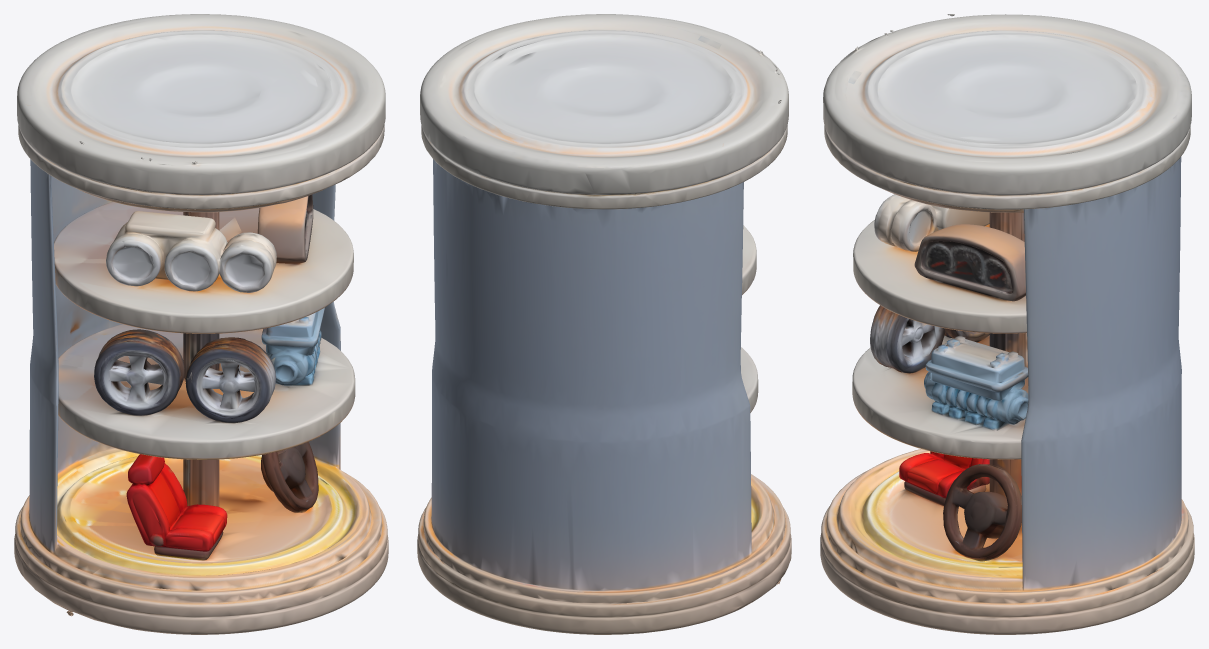
The model's file is 展示柜.fbx.
3 renders of one model, left to right at view 1: azimuth 30°, elevation 25°; view 2: azimuth 150°, elevation 25°; view 3: azimuth 270°, elevation 25°, orthographic.
Visible parts, largest first — view 1: node_0; view 2: node_0; view 3: node_0.
Part boxes in pixels (left/top/right/bottom): node_0: left=14, top=14, right=388, bottom=634; node_0: left=417, top=14, right=791, bottom=634; node_0: left=820, top=14, right=1194, bottom=634.
Bounding box in the file's own units: 69.93 × 98.6 × 70.23.
